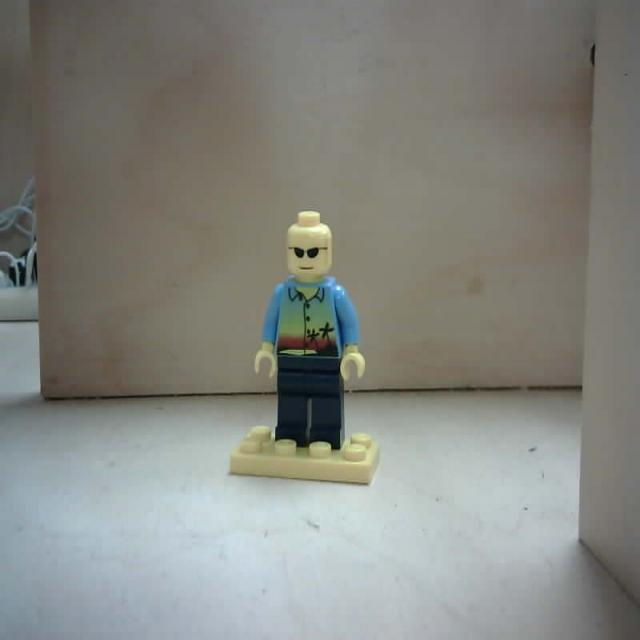Lego-People: (231, 210, 381, 490)
